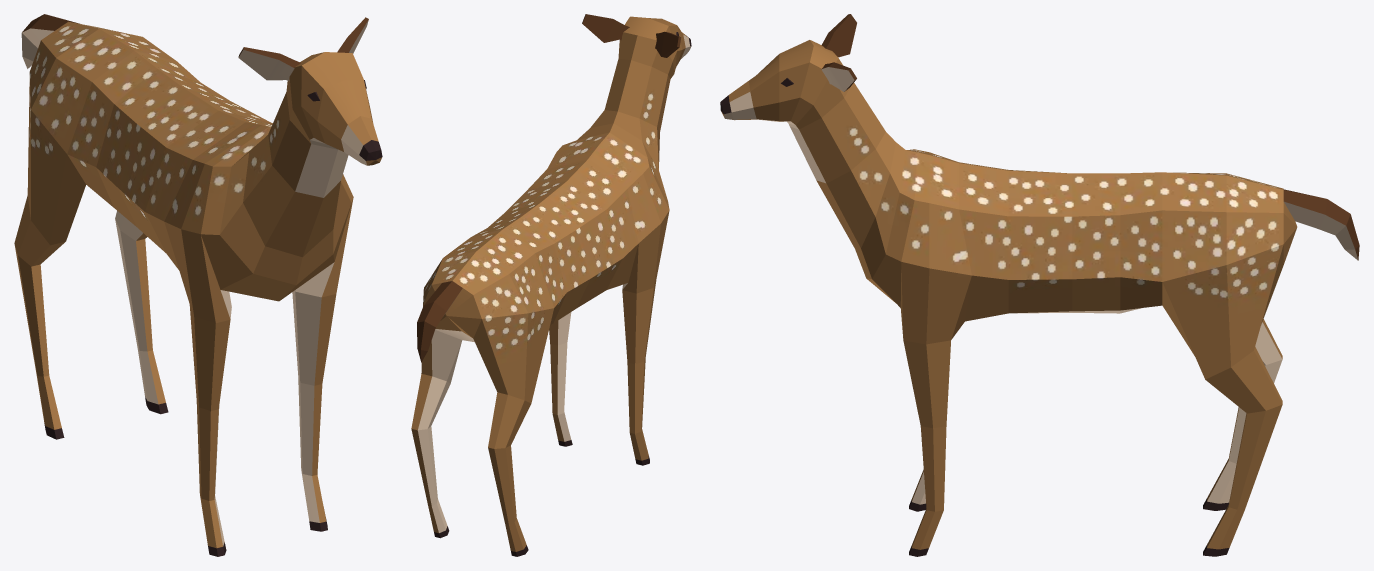
File: ciervo.glb
3 renders of one model, left to right at view 1: azimuth 30°, elevation 25°; view 2: azimuth 150°, elevation 25°; view 3: azimuth 270°, elevation 25°, orthographic. The views are drawn at different scales.
Parts seen in each view (by area): view 1: Geo_Fawn; view 2: Geo_Fawn; view 3: Geo_Fawn.
Boxes of the visible parts, box(x1,y1,x2,y2) form: Geo_Fawn: box(14, 14, 382, 556); Geo_Fawn: box(411, 14, 691, 556); Geo_Fawn: box(720, 14, 1359, 556).
Size of the model in its own units: 19.07 by 60.39 by 71.5.
1 material, 1 textured.
